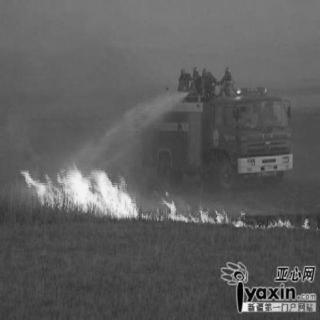other: (224, 81, 276, 100)
